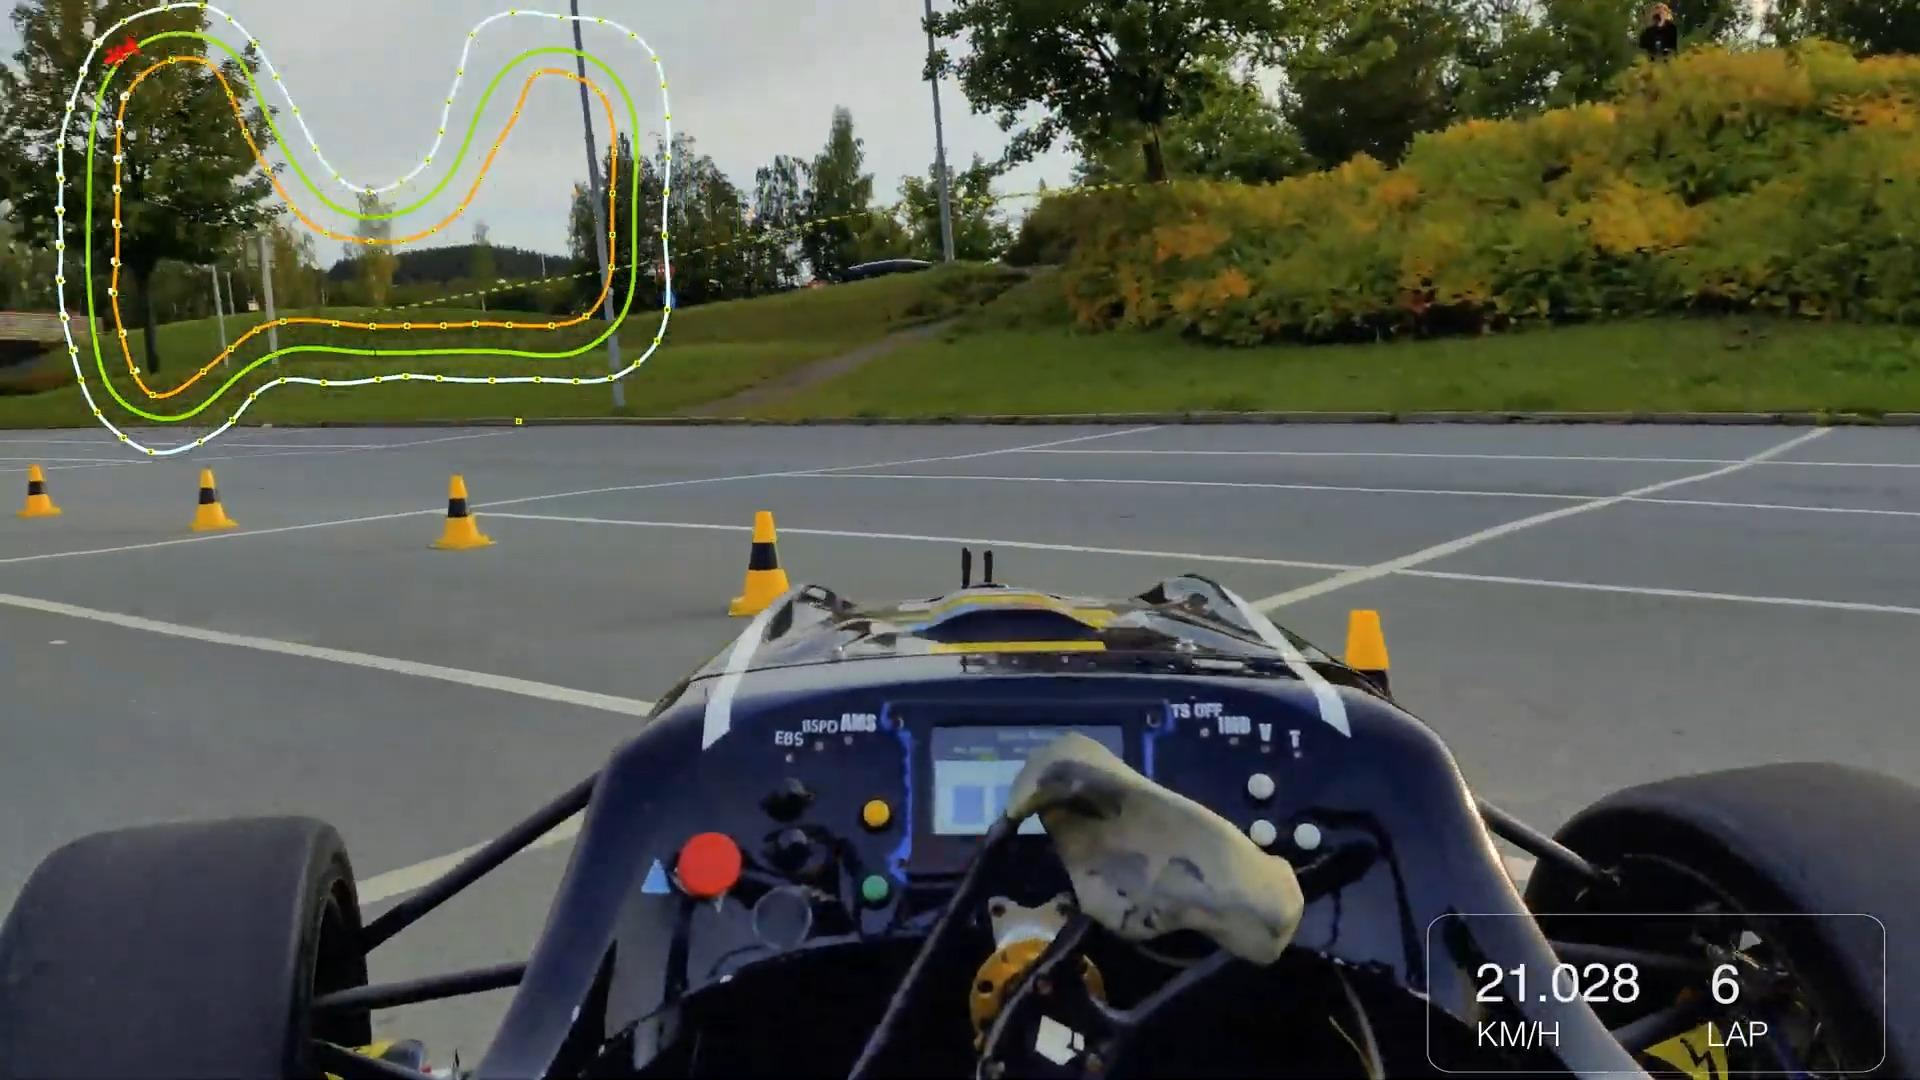yellow_cone: (1320, 611, 1412, 796), (727, 512, 796, 618), (430, 473, 493, 554), (187, 468, 236, 535), (21, 464, 63, 520)
